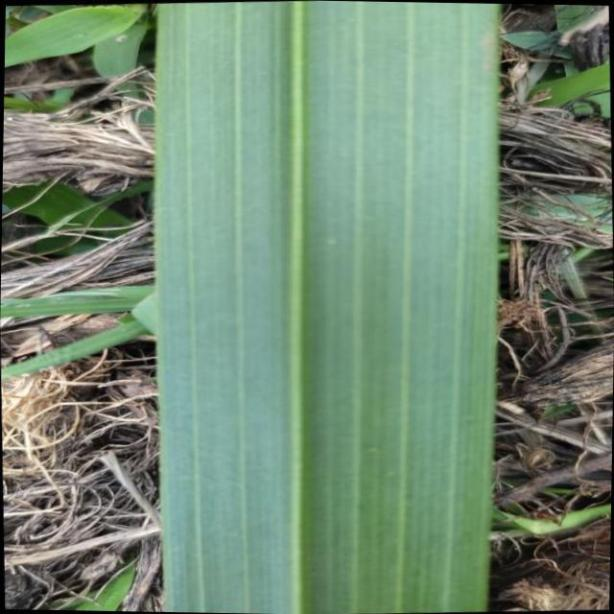Healthy: (155, 5, 499, 614)
